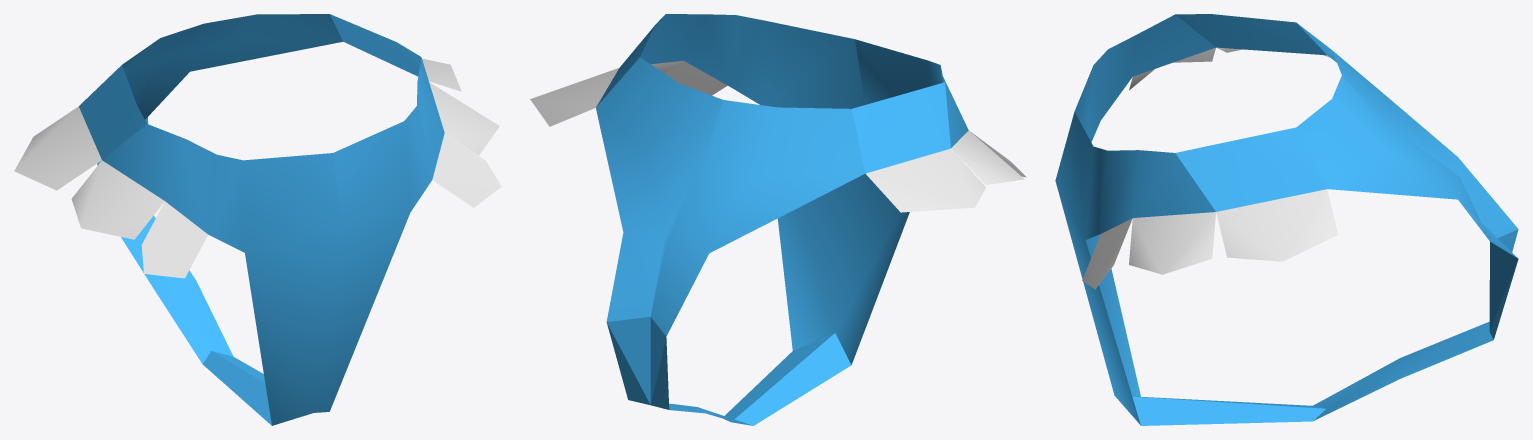
The model's file is Bikini.fbx.
3 views of the same model, side by side, from view 1: azimuth 30°, elevation 25°; view 2: azimuth 150°, elevation 25°; view 3: azimuth 270°, elevation 25° (orthographic). The views are drawn at different scales.
Parts seen in each view (by area): view 1: Bikini; view 2: Bikini; view 3: Bikini.
Boxes of the visible parts, x1,y1,x2,y2 form: Bikini: [14, 14, 501, 425]; Bikini: [530, 14, 1026, 425]; Bikini: [1055, 14, 1518, 425].
Bounding box in the file's own units: 33.52 × 24.02 × 29.72.
